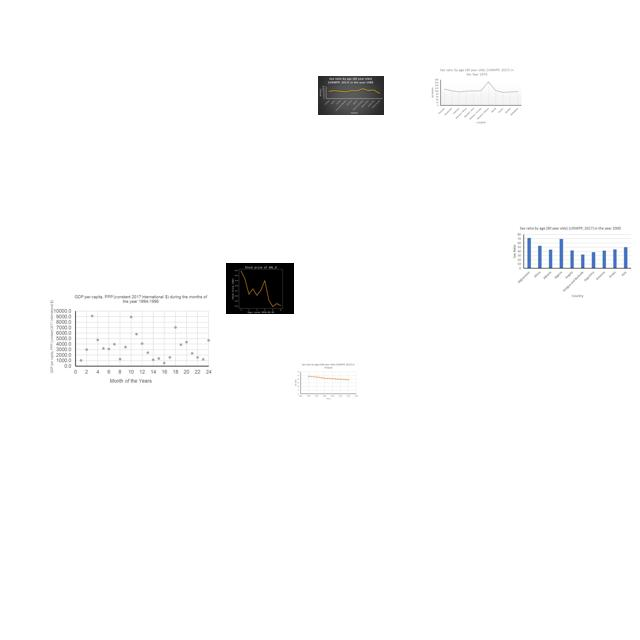Graph: (47, 288, 214, 386), (509, 225, 633, 298), (429, 67, 523, 125), (226, 263, 294, 314), (293, 362, 359, 401), (318, 76, 384, 115)
